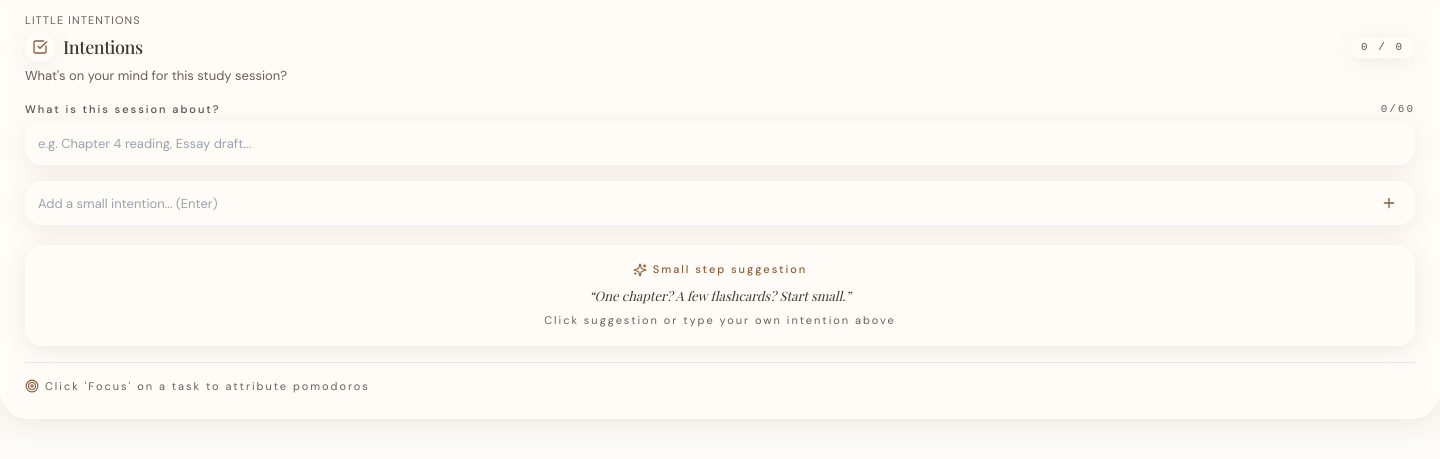
Test: IntentionsCard › shows error if attempting to add empty task
The width and height of the screenshot is (1440, 459).
Click the button named "add intention".
click(1389, 203)  # box [1367,181,1411,225]
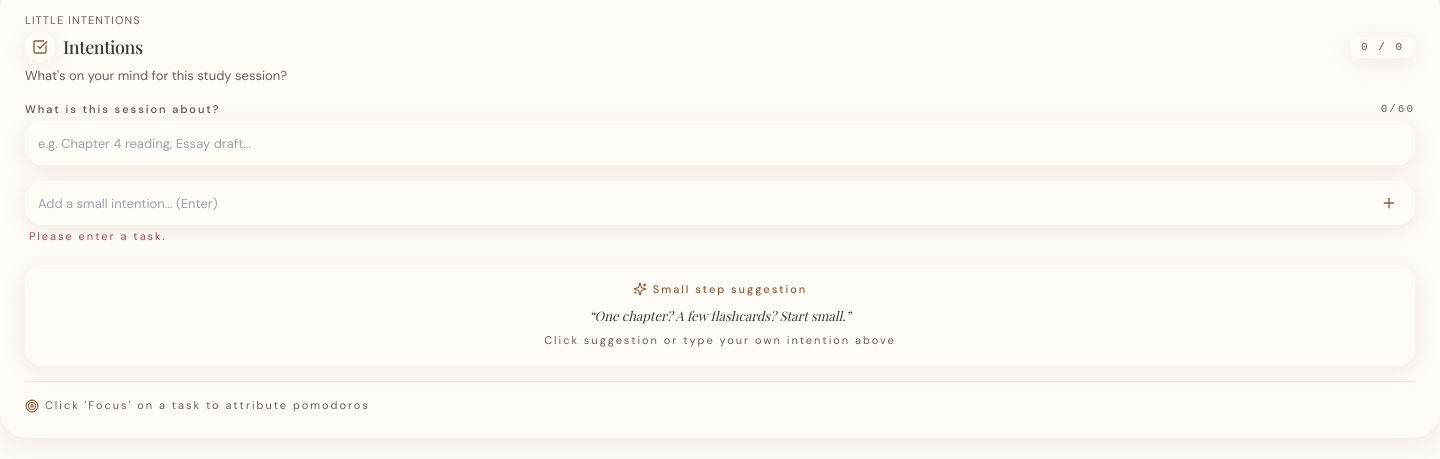
Result: the text "Please enter a task." is shown at [29,229,167,243]
